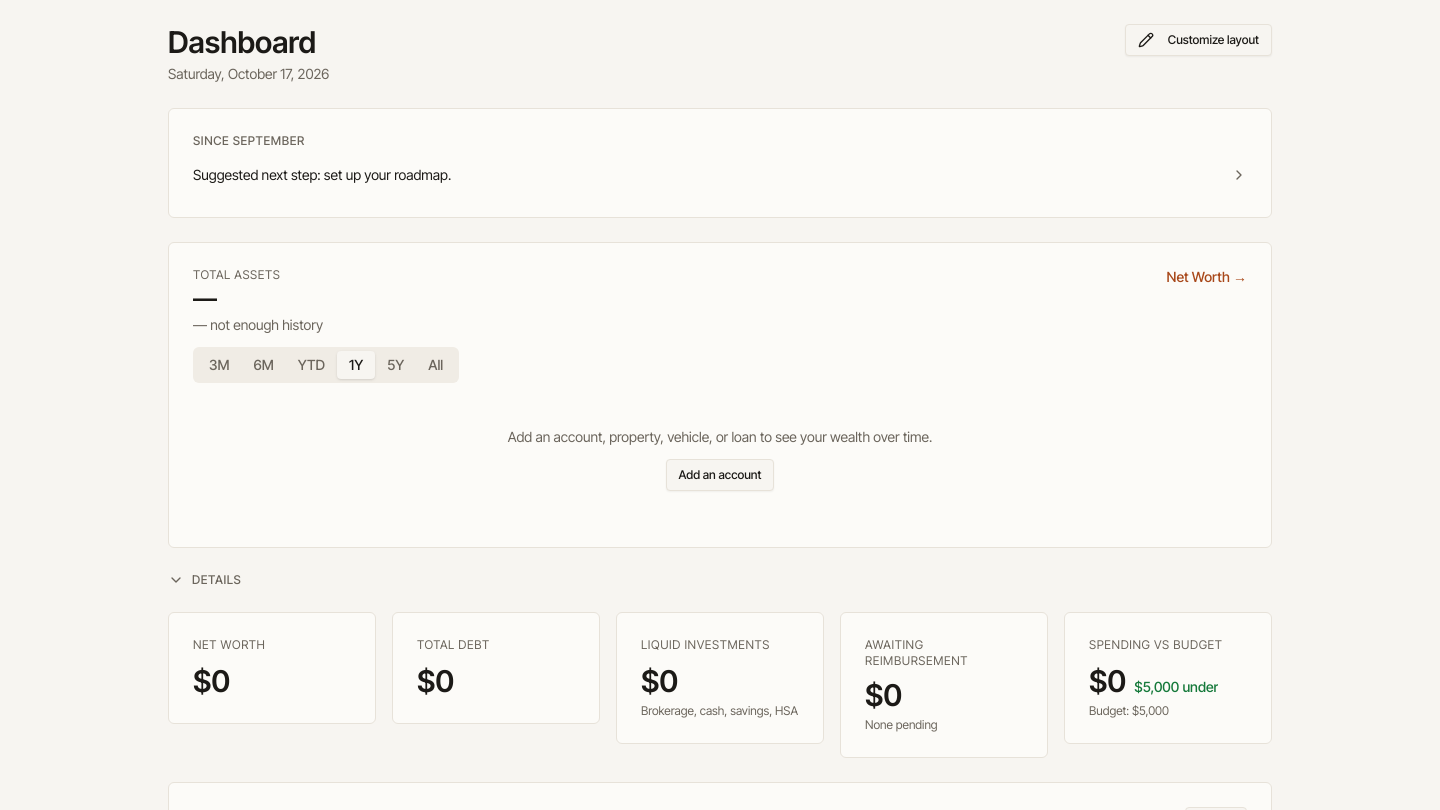
Test: Dashboard widget reposition › reveals widget move/remove controls only when editing is on
Click the button with test id "dashboard-edit-toggle". click: (1198, 40)
box: [1125, 24, 1272, 56]
(page scrolled)
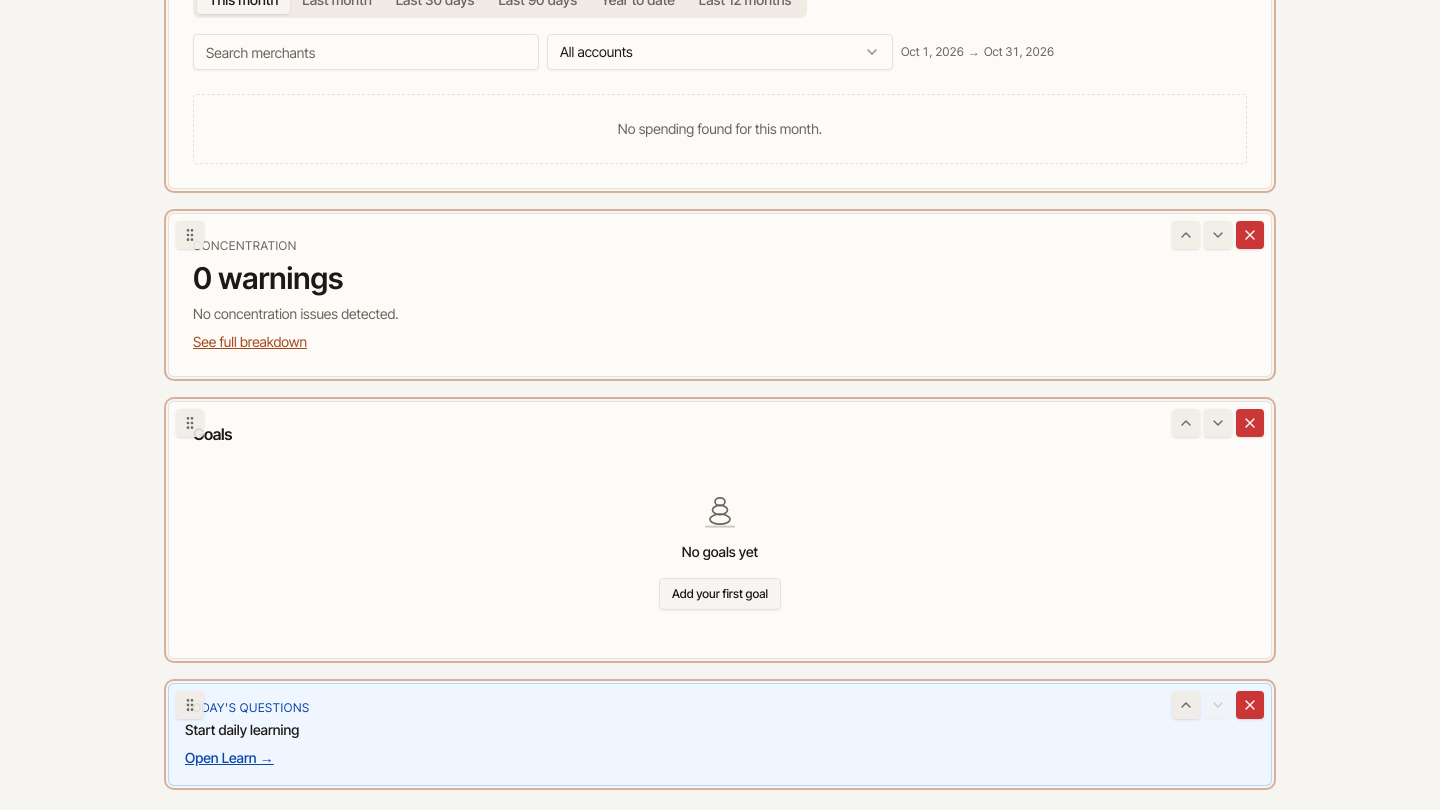
Check: the button with test id "widget-concentration-up" is shown, box [1172, 221, 1200, 249]
Check: the button with test id "widget-goals-down" is shown, box [1204, 409, 1232, 437]
